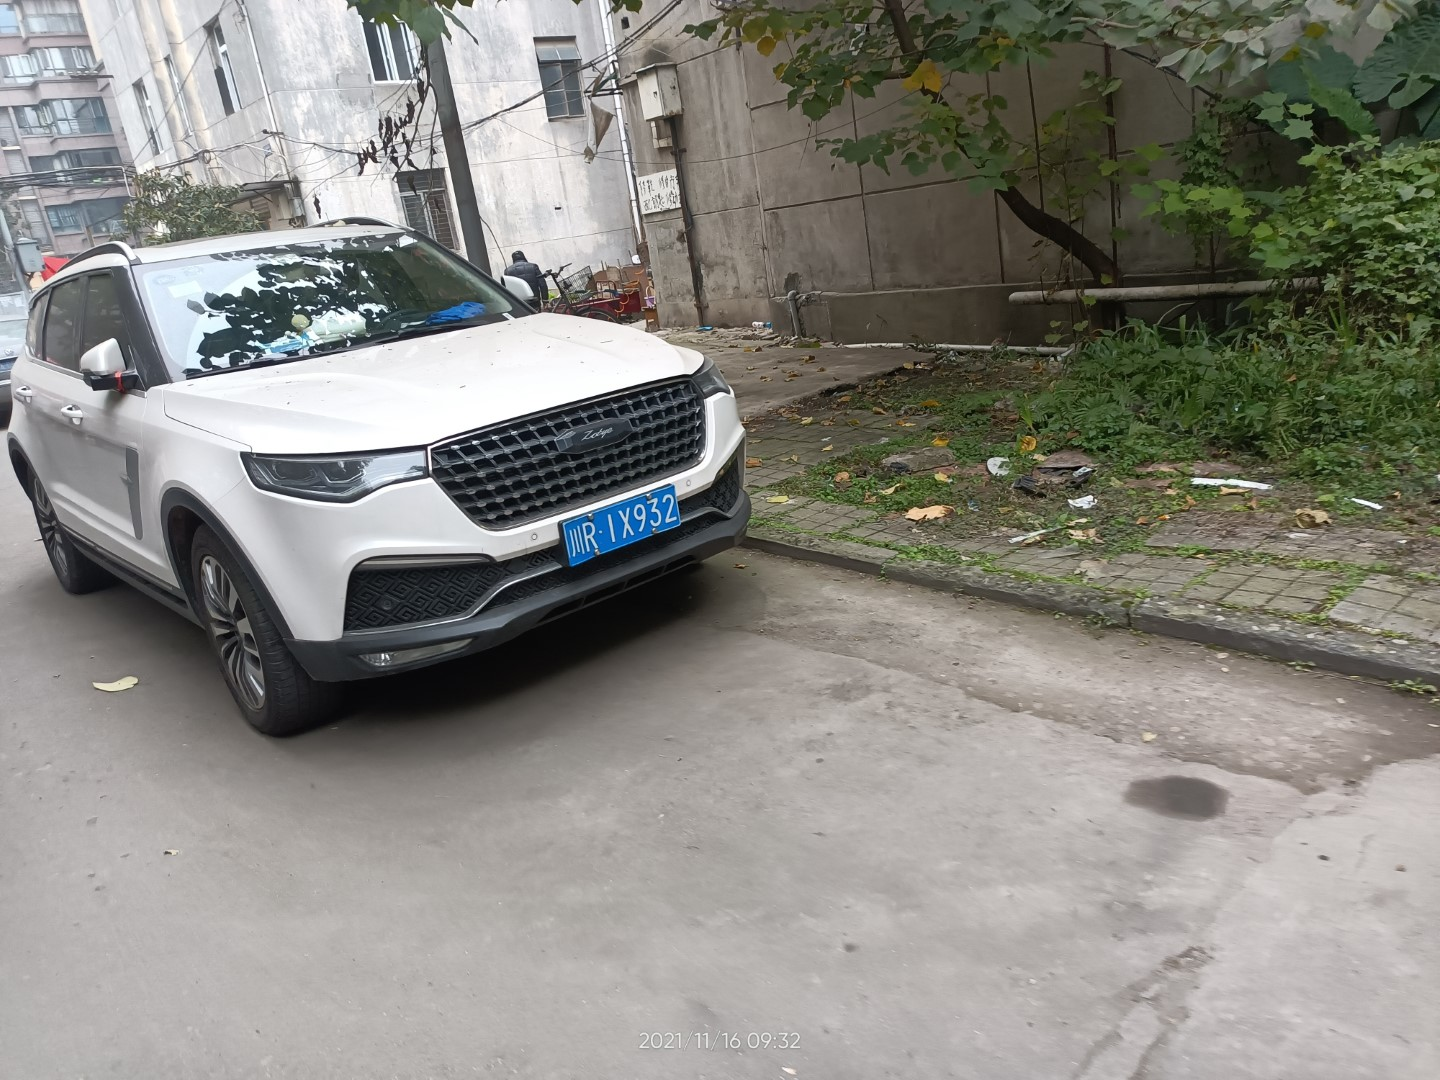plate: (557, 483, 681, 567)
